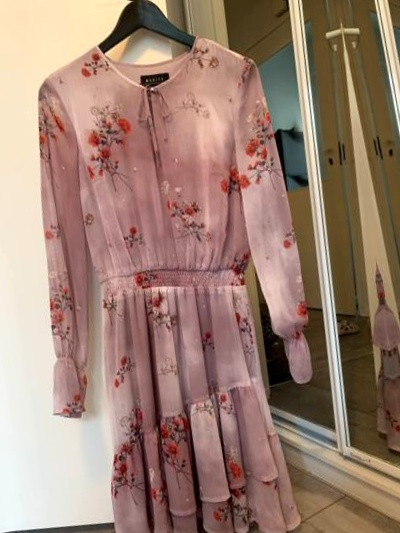Dress: (0, 10, 370, 533), (380, 0, 400, 493)
